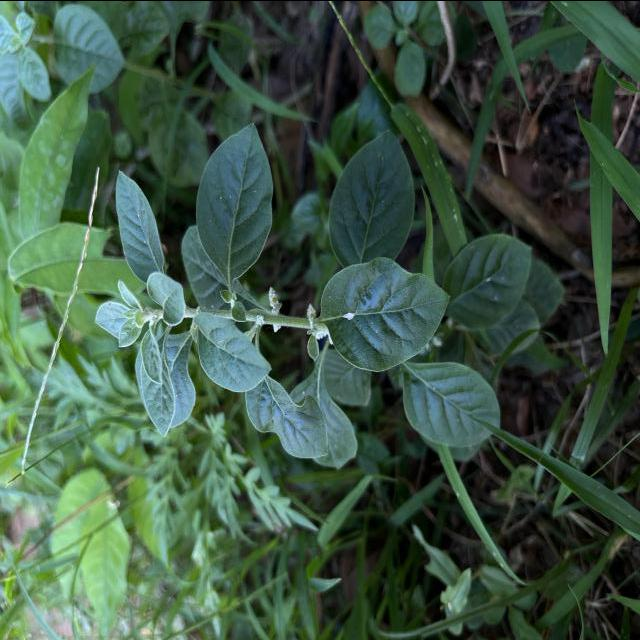Aerva lanata: (318, 253, 452, 374), (193, 118, 275, 286), (326, 127, 418, 270), (242, 372, 330, 460), (189, 308, 274, 394), (113, 166, 166, 284), (137, 329, 177, 439), (144, 268, 188, 327), (140, 322, 165, 386)
